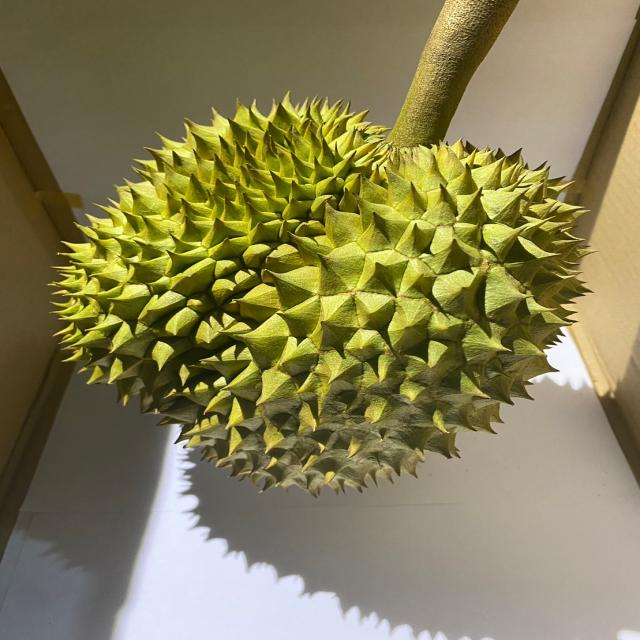immature: (48, 87, 601, 504)
